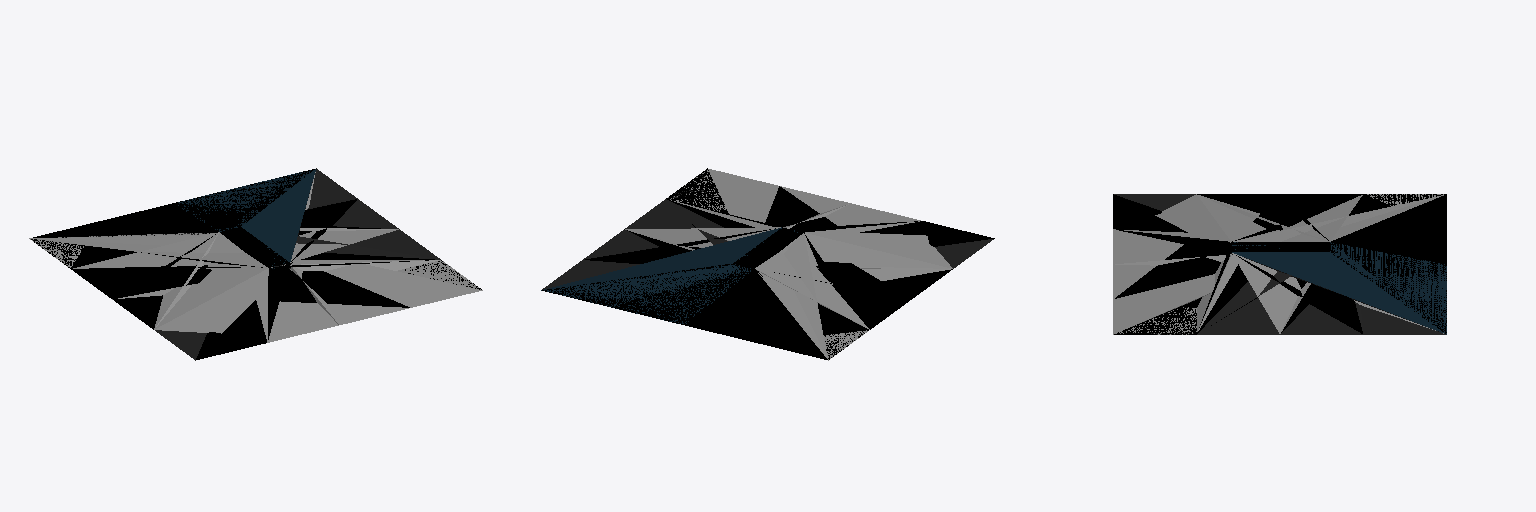
Rendered from DBR9.obj.
The picture shows the model from 3 angles: view 1: azimuth 30°, elevation 25°; view 2: azimuth 150°, elevation 25°; view 3: azimuth 270°, elevation 25°; orthographic projection.
Visible parts, largest first — view 1: Back_light_L, Exhaust, Engine, BLightL, HLightLG, BLightR, Back_light_R, WindRL, LicenseF, WindRR, WindFL, Driver_Sport (+3 smaller); view 2: Back_light_L, Exhaust, BLightL, HLightLG, Engine, WindRL, BumperR, Back_light_R, LicenseF, BLightR, WindFL, HLightRG (+4 smaller); view 3: Exhaust, HLightLG, BLightL, Back_light_L, Engine, WindRL, Back_light_R, WindR, WindRR, LicenseF, BLightR, WindFL (+2 smaller).
Part boxes in pixels (x1,y1,x2,y2): Back_light_L: (30, 172, 478, 342); Exhaust: (33, 194, 434, 307); Engine: (71, 234, 289, 359); BLightL: (37, 233, 482, 342); HLightLG: (178, 169, 315, 268); BLightR: (29, 233, 478, 326); Back_light_R: (35, 229, 480, 328); WindRL: (289, 168, 440, 268); LicenseF: (33, 200, 380, 268); WindRR: (297, 169, 439, 259); WindFL: (47, 227, 233, 360); Driver_Sport: (113, 260, 481, 358); Back_light_L: (631, 170, 952, 357); Exhaust: (590, 186, 836, 359); BLightL: (709, 169, 920, 358); HLightLG: (541, 227, 781, 323); Engine: (774, 221, 990, 329); WindRL: (543, 199, 726, 289); BumperR: (543, 199, 753, 324); Back_light_R: (625, 171, 950, 358); LicenseF: (585, 228, 868, 359); BLightR: (708, 169, 878, 357); WindFL: (673, 170, 993, 359); HLightRG: (547, 228, 797, 307); Exhaust: (1115, 194, 1446, 333); HLightLG: (1232, 243, 1446, 334); BLightL: (1113, 195, 1442, 334); Back_light_L: (1114, 194, 1443, 334); Engine: (1113, 194, 1362, 252); WindRL: (1198, 271, 1445, 334); Back_light_R: (1120, 194, 1425, 334); WindR: (1232, 195, 1446, 330); WindRR: (1197, 271, 1435, 334); LicenseF: (1231, 194, 1440, 333); BLightR: (1113, 195, 1443, 333); WindFL: (1114, 194, 1441, 334).
Bounding box in the file's own units: 71.1 × 4 × 71.42.